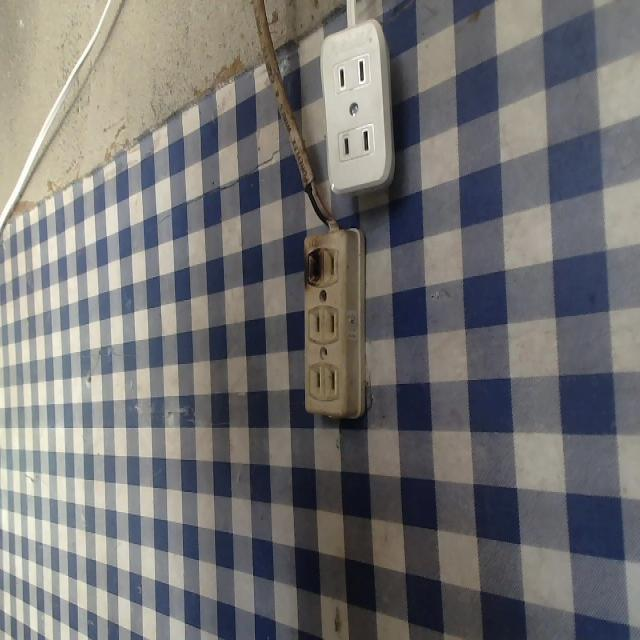-: (299, 240, 326, 291)
